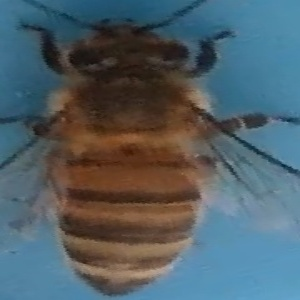bee: (15, 1, 298, 300)
